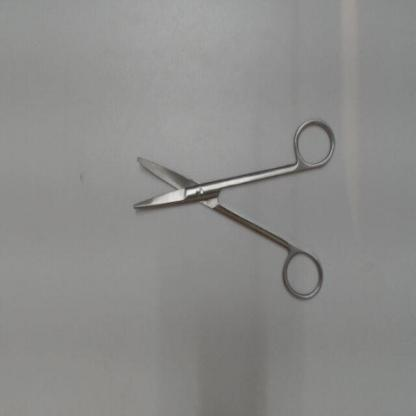Curved Mayo Scissors: (126, 112, 340, 308)
